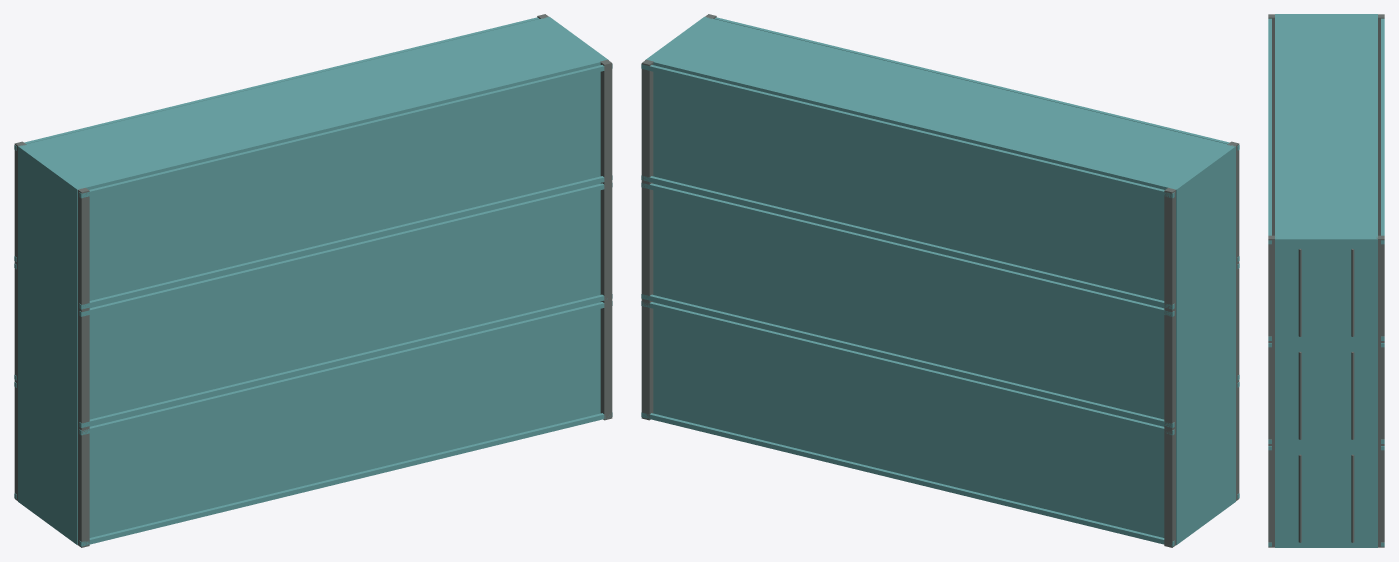
The picture shows the model from 3 angles, left to right: view 1: azimuth 30°, elevation 25°; view 2: azimuth 150°, elevation 25°; view 3: azimuth 270°, elevation 25°; orthographic projection. The views are drawn at different scales.
Size of the model in its own units: 12.36 by 7.8 by 2.66.
